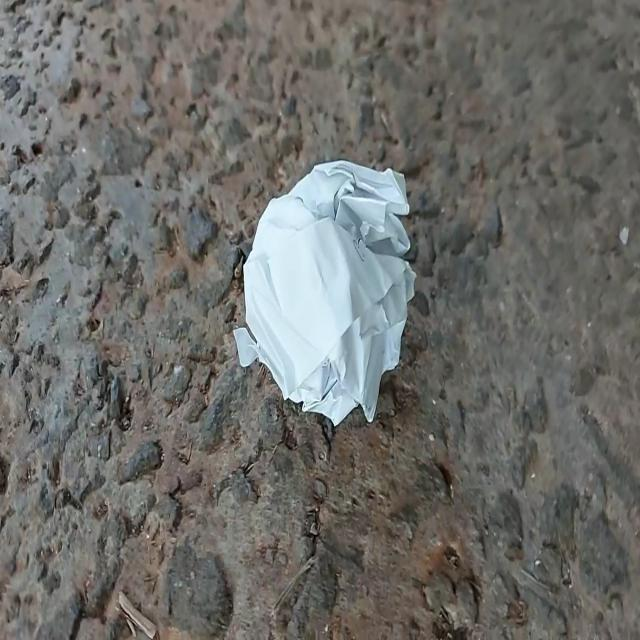Paper: (218, 136, 428, 443)
